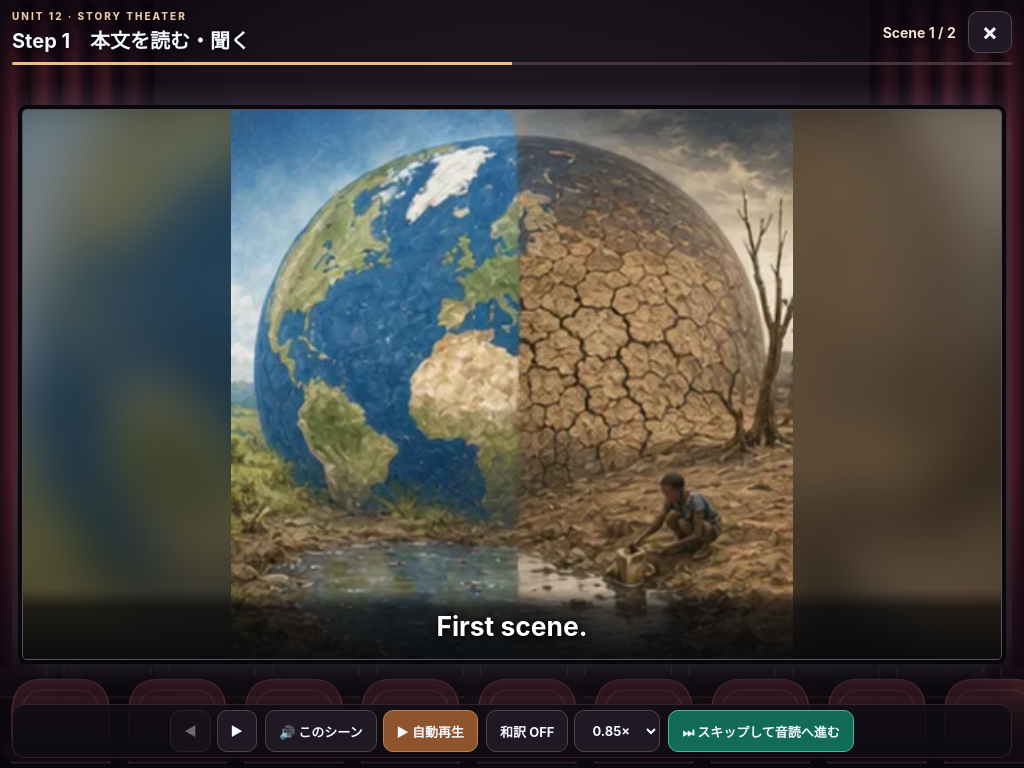
audio errors stop playback rather than silently skipping a scene
Click the button "▶ 自動再生" at (430, 731), box [383,710,478,752]
Wait 60000 ms
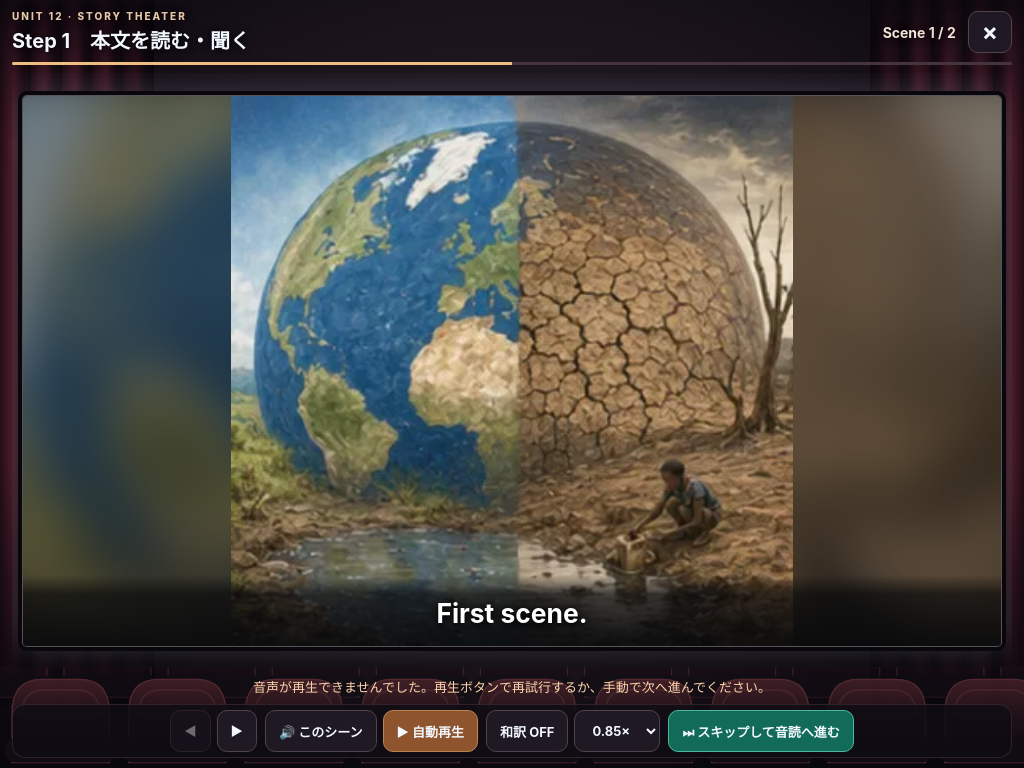
Expected: the text "First scene." is shown, [436,597,588,629]
Now the message shows "再生できません", box [253,679,771,695]
